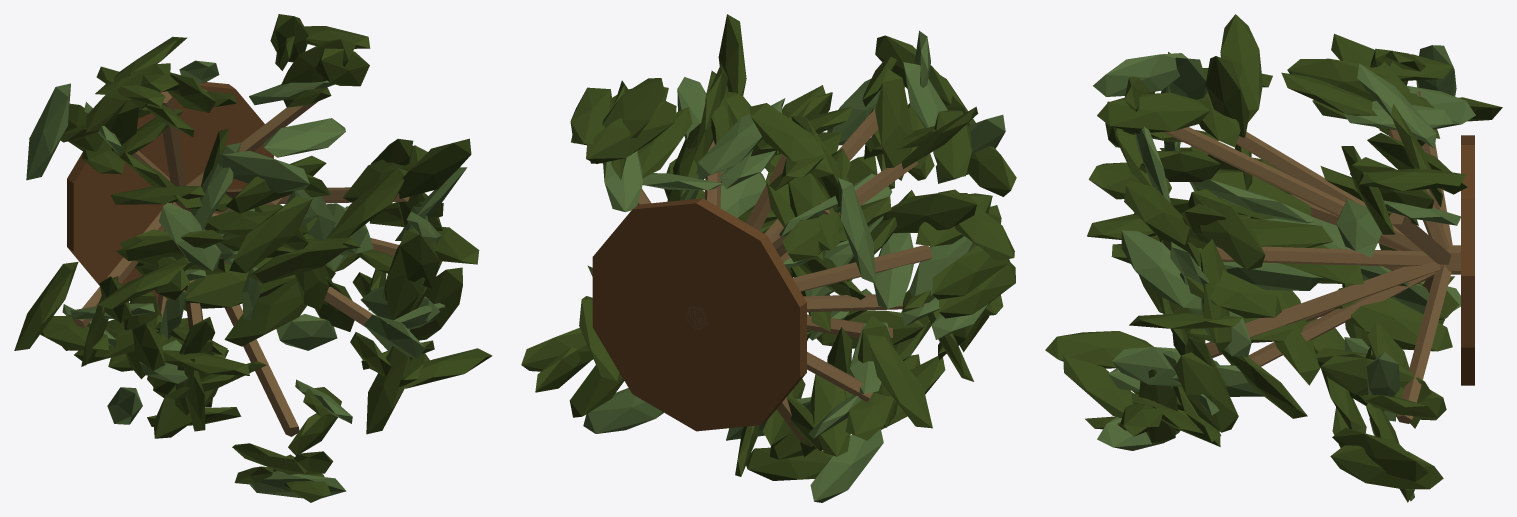
The model's file is 2_young.obj.
3 renders of one model, left to right at view 1: azimuth 30°, elevation 25°; view 2: azimuth 150°, elevation 25°; view 3: azimuth 270°, elevation 25°, orthographic. The views are drawn at different scales.
Parts seen in each view (by area): view 1: 2_young; view 2: 2_young; view 3: 2_young.
Boxes of the visible parts, bbox=[...] form: 2_young: bbox=[14, 14, 492, 502]; 2_young: bbox=[521, 14, 1016, 502]; 2_young: bbox=[1045, 14, 1502, 502].
Bounding box in the file's own units: 0.3927 × 0.3728 × 0.3877.
